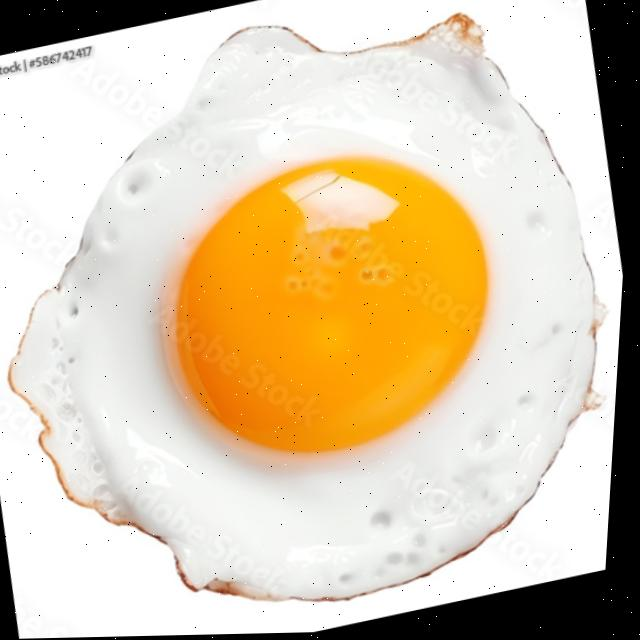Egg: (15, 18, 601, 602)
